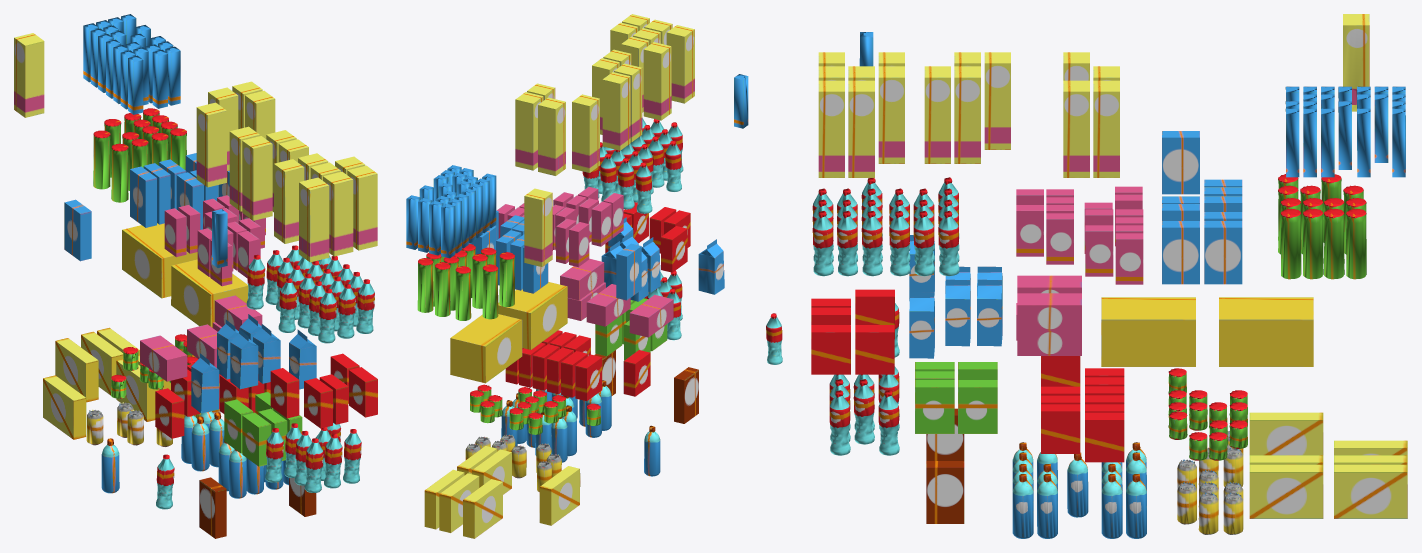
Rendered from StockTest.fbx.
3 renders of one model, left to right at view 1: azimuth 30°, elevation 25°; view 2: azimuth 150°, elevation 25°; view 3: azimuth 270°, elevation 25°, orthographic. The views are drawn at different scales.
Visible parts, largest first — view 1: Cube.3002, Cube.3001, Cube.2955, Cube.2962, Cube.2968, Cube.2825, Cereal 1.036, Cube.2970, Cube.2959, Cube.2967, Cereal 1.045, Cube.2831 (+78 smaller); view 2: Cube.3002, Cube.3001, Cube.2961, Cube.2970, Cube.2825, Cube.2956, Cube.2955, Cube.2968, Cereal 1.036, Cereal 1.045, Cube.2957, Cereal 1.046 (+62 smaller); view 3: Cube.3001, Cube.3002, Cereal 1.048, Cereal 1.037, Cereal 1.036, Cube.2957, Cube.2958, Cube.2960, Cube.2961, Cube.2963, Cube.2964, Cube.2965 (+61 smaller).
Part boxes in pixels (x1,y1,x2,y2): Cube.3002: (122,223,197,298); Cube.3001: (171,259,248,327); Cube.2955: (196,102,226,187); Cube.2962: (242,136,272,220); Cube.2968: (299,177,329,262); Cube.2825: (14,33,44,117); Cereal 1.036: (43,375,86,439); Cube.2970: (274,159,304,243); Cube.2959: (347,165,377,250); Cube.2967: (323,171,353,256); Cereal 1.045: (55,338,98,402); Cube.2831: (140,335,187,381); Cube.3002: (450,314,522,383); Cube.3001: (498,282,567,349); Cube.2961: (602,72,630,150); Cube.2970: (643,42,671,120); Cube.2825: (524,188,552,266); Cube.2956: (538,97,565,175); Cube.2955: (572,94,599,172); Cube.2968: (666,25,694,103); Cereal 1.036: (539,466,579,525); Cereal 1.045: (463,479,502,538); Cube.2957: (515,92,543,170); Cereal 1.046: (439,473,479,532); Cube.3001: (1101,297,1195,366); Cube.3002: (1219,297,1313,366); Cereal 1.048: (1249,464,1323,518); Cereal 1.037: (1334,464,1407,518); Cereal 1.036: (1249,412,1323,455); Cube.2957: (1093,80,1119,177); Cube.2958: (1063,80,1089,177); Cube.2960: (848,80,874,177); Cube.2961: (984,52,1010,149); Cube.2963: (924,66,950,163); Cube.2964: (954,66,980,163); Cube.2965: (878,66,904,163).
Bounding box in the file's own units: 123 × 214 × 261.
